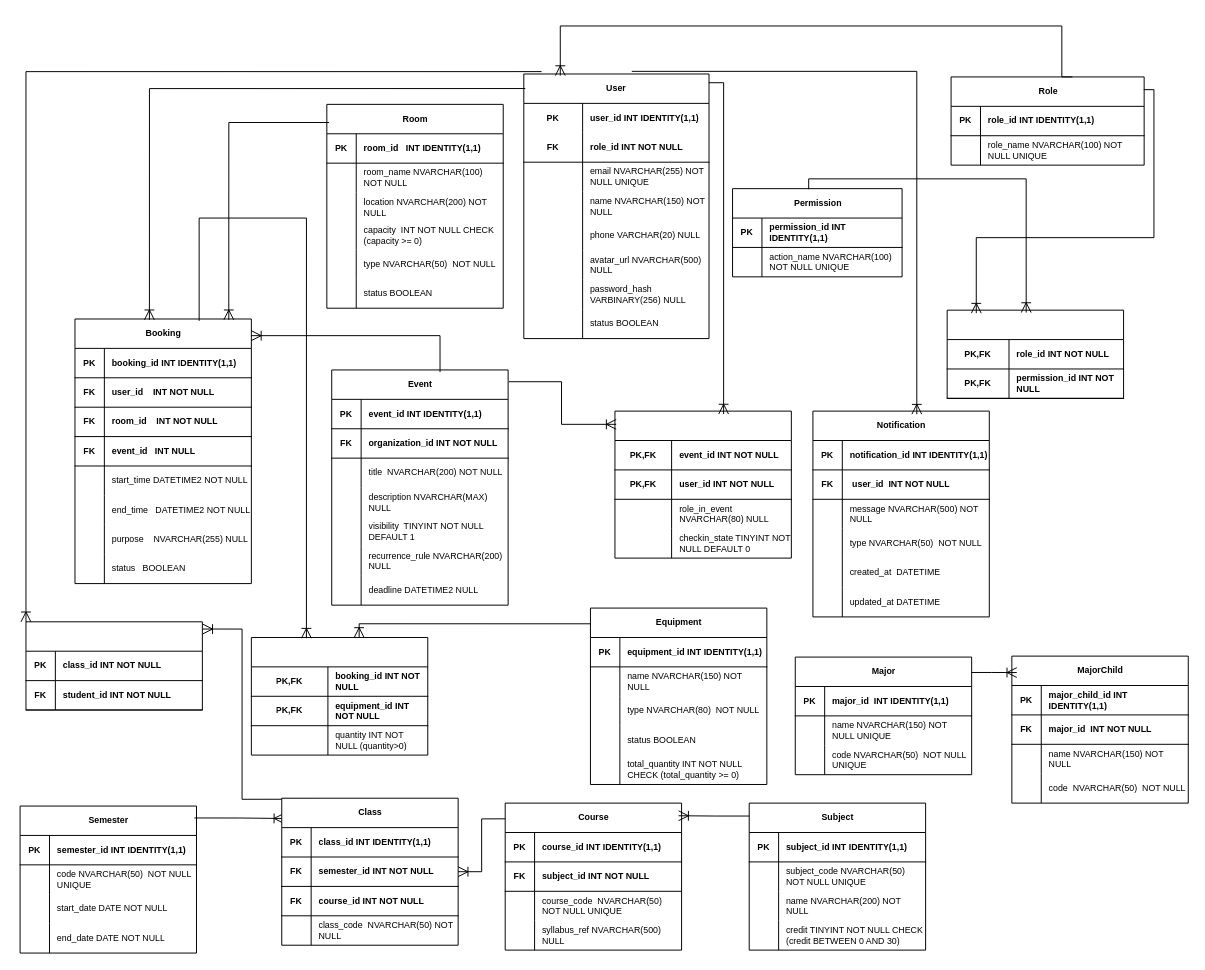
Image size: 1205x970. Some labels were removed from this diagram. The shapes that lost their labels are listed below. From the top down, each one's box as (x1, y1, x2, y2) in pixels, then its label:
(946, 309, 1124, 398): RolePermission
(614, 410, 791, 558): EventParticipant
(25, 621, 202, 710): Enrollment
(250, 637, 428, 755): BookingEquipment
